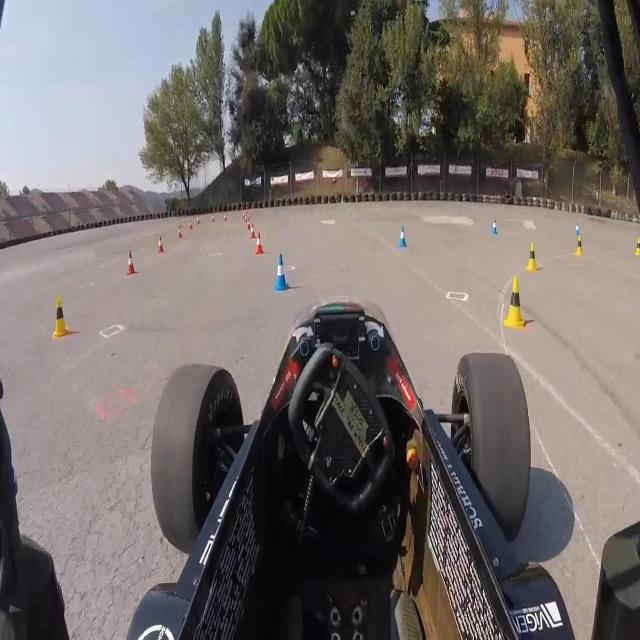blue_cone: (274, 250, 291, 296), (397, 223, 407, 248), (491, 216, 498, 235)
orange_cone: (252, 231, 266, 254), (126, 249, 136, 277), (157, 234, 165, 255), (176, 224, 184, 241), (250, 221, 256, 239), (189, 219, 193, 231)
yellow_cone: (502, 273, 530, 340), (51, 295, 71, 339), (522, 238, 541, 278)
